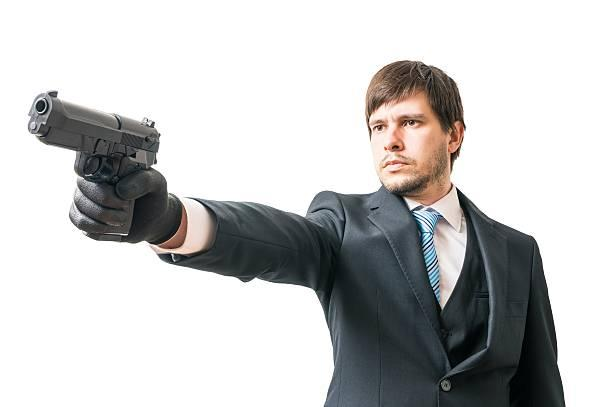weapon: (25, 86, 159, 243)
